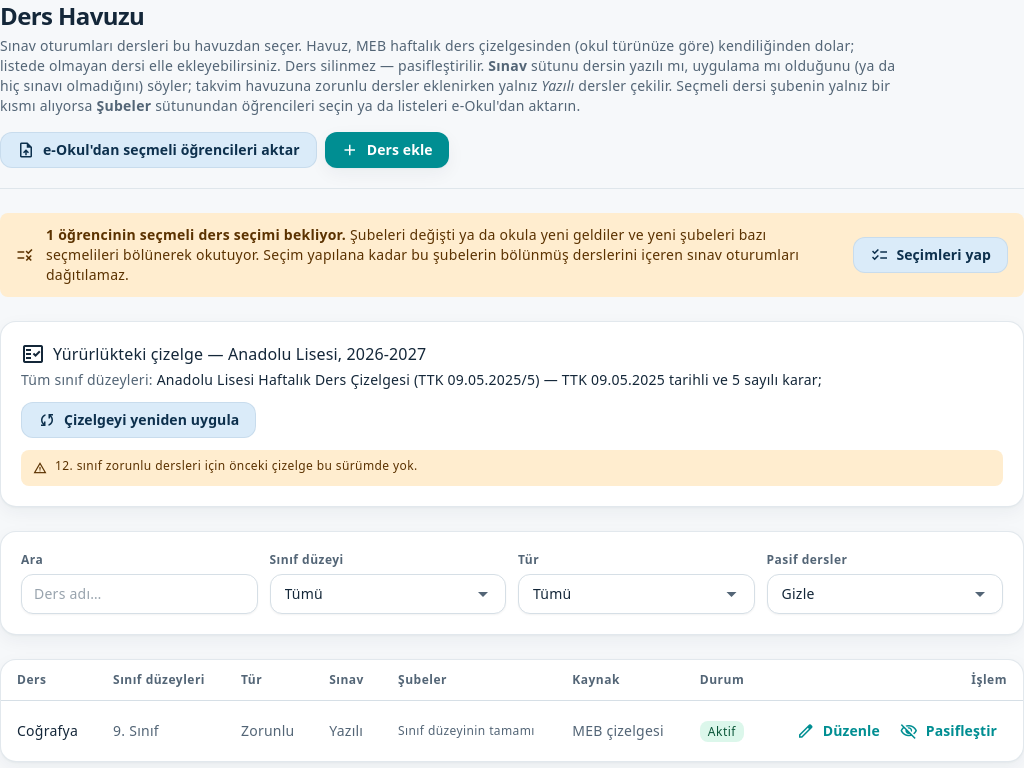
it: DersHavuzuPage — seçmeli ders seçimi bekleyenler (07.10.2026) › bant bekleyeni sayar, 'Seçimleri yap' pencereyi açar
Expected: the text "1 öğrencinin seçmeli ders seçimi bekliyor." is shown, [46,225,346,244]
Click the button "Seçimleri yap".
click(931, 255)  # box [853,237,1008,273]
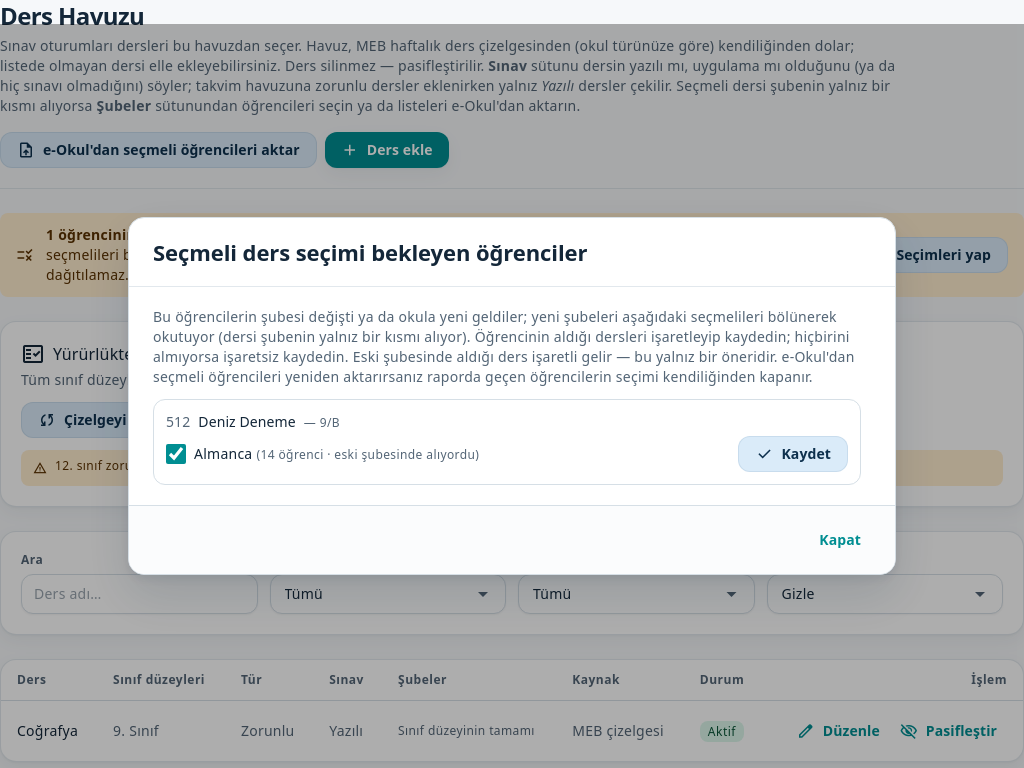
Result: the dialog "Seçmeli ders seçimi bekleyen öğrenciler" is shown at [128,217,896,575]
Click the button "Kapat".
click(840, 540)  # box [809,522,871,558]
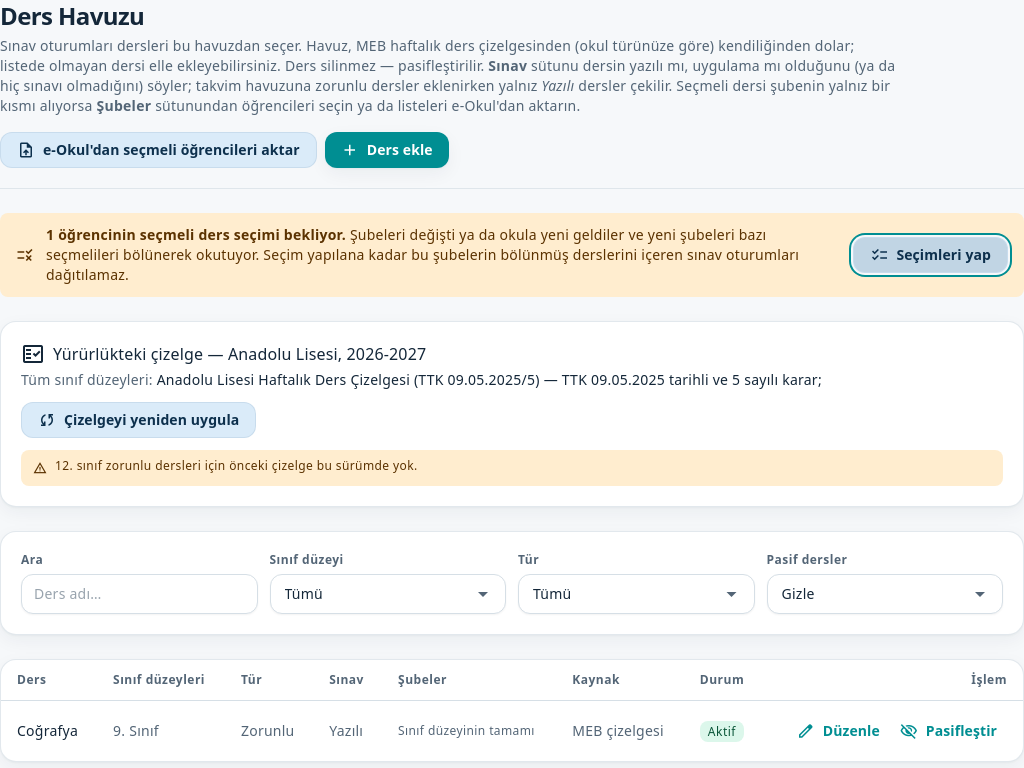
Result: the heading "Seçmeli ders seçimi bekleyen öğrenciler" is gone
